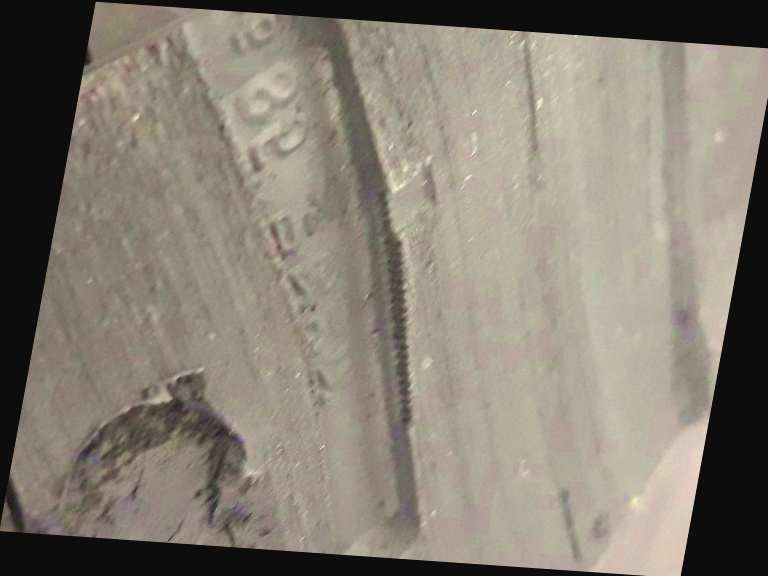temoin:0: (354, 148, 462, 259)
